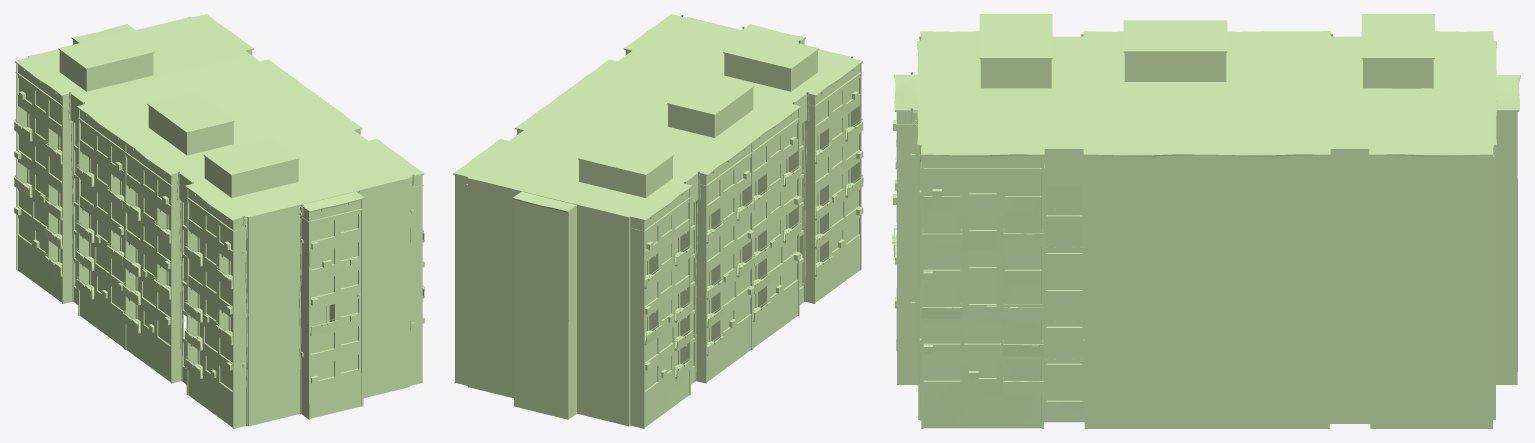
Rendered from apartment.fbx.
3 renders of one model, left to right at view 1: azimuth 30°, elevation 25°; view 2: azimuth 150°, elevation 25°; view 3: azimuth 270°, elevation 25°, orthographic. The views are drawn at different scales.
Visible parts, largest first — view 1: mesh; view 2: mesh; view 3: mesh.
Boxes of the visible parts, <box> form: mesh: <box>14,14,424,428</box>; mesh: <box>453,14,863,428</box>; mesh: <box>892,14,1520,428</box>.
Bounding box in the file's own units: 934 × 1062 × 1973.
